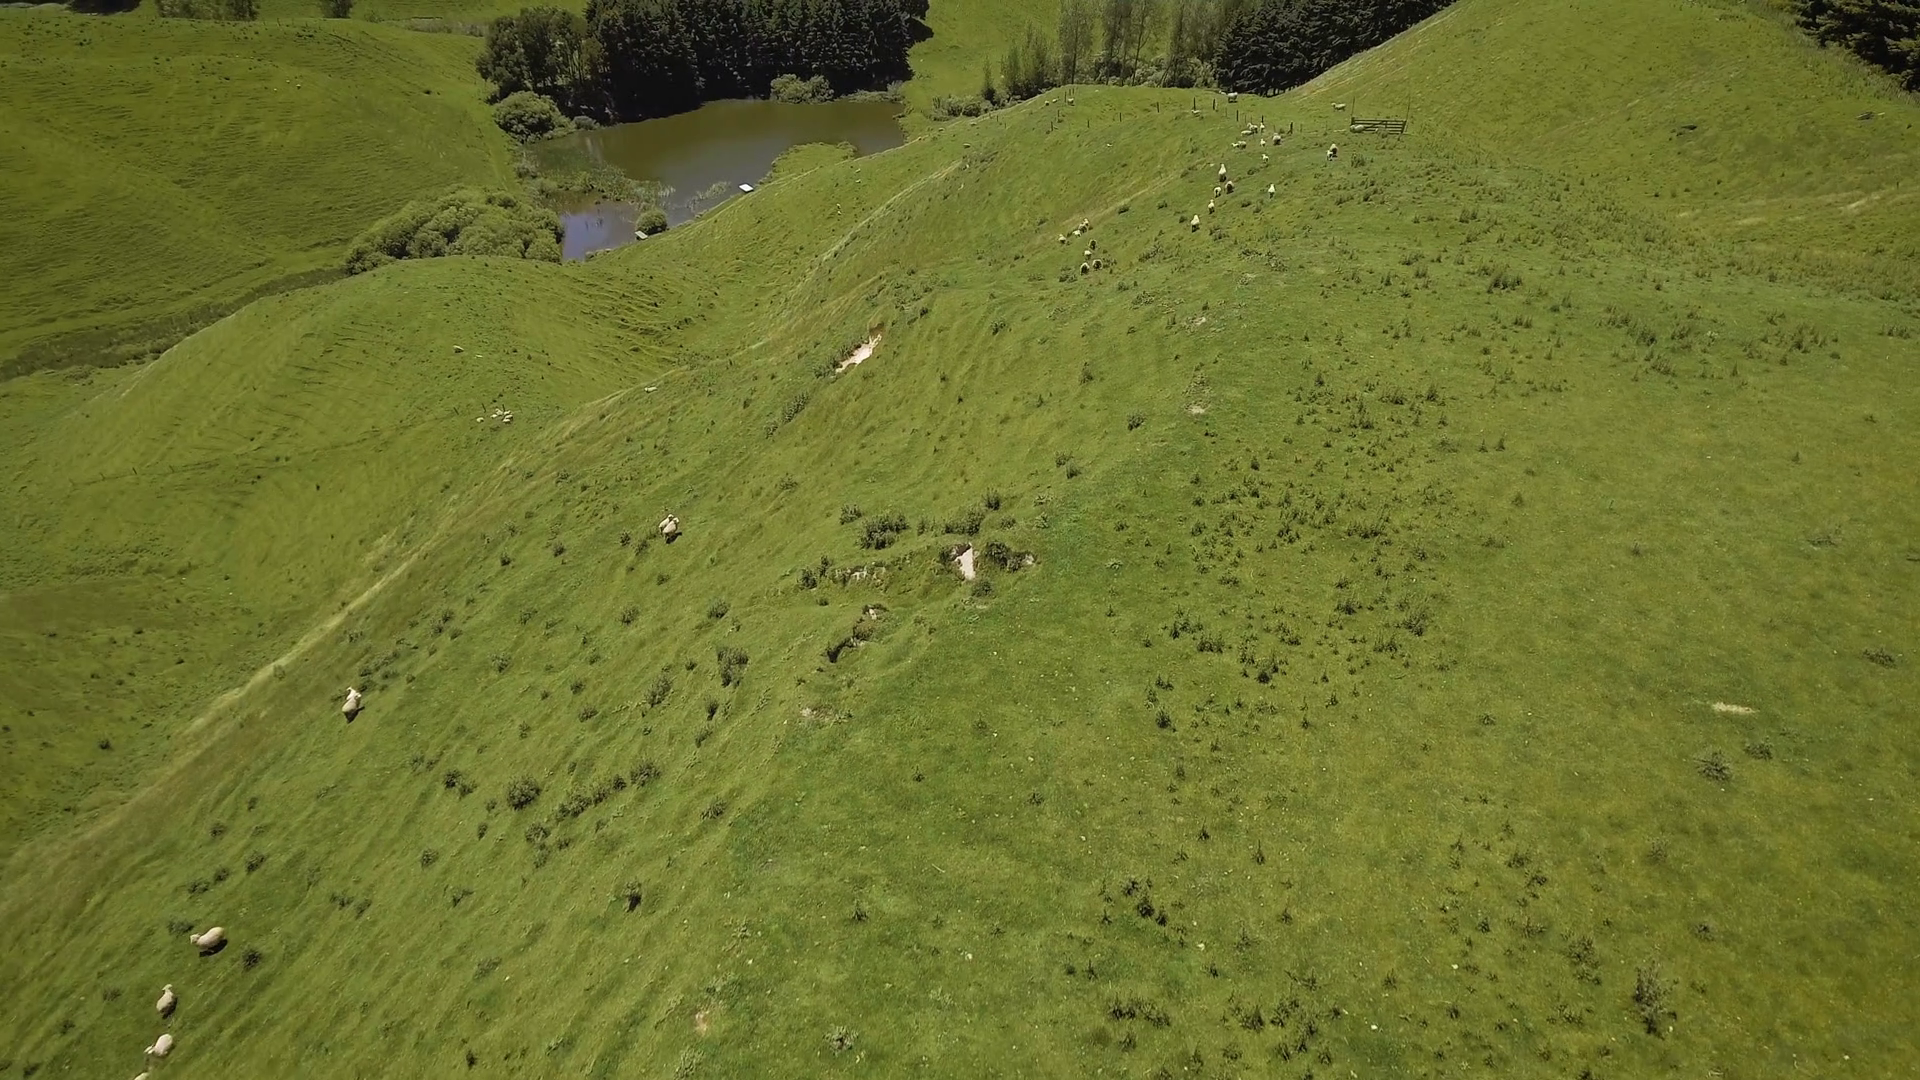sheep: (189, 926, 225, 953), (144, 1033, 175, 1058), (342, 684, 361, 721), (156, 982, 177, 1017), (662, 517, 680, 543), (657, 513, 674, 535), (1189, 214, 1201, 232), (1217, 164, 1226, 182), (1207, 198, 1216, 214), (1225, 179, 1234, 195), (1331, 102, 1346, 111), (644, 385, 658, 393), (1269, 183, 1276, 196), (1213, 186, 1221, 199), (1273, 132, 1280, 144), (1262, 153, 1270, 164), (1261, 137, 1266, 146)
